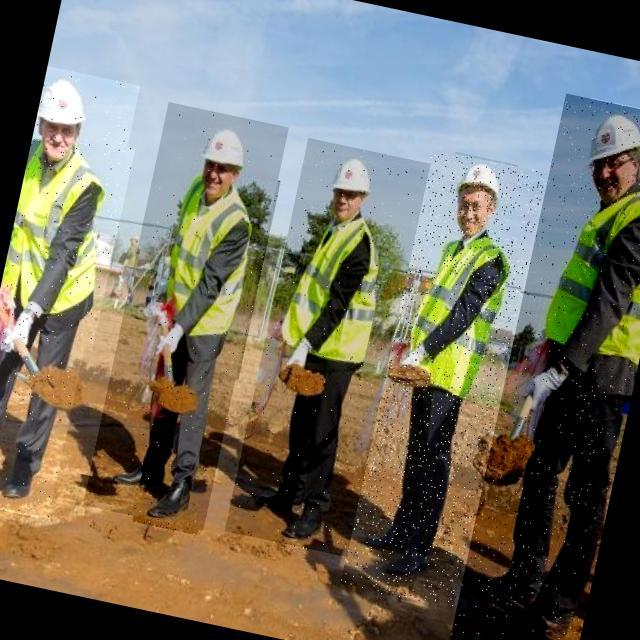Gloves: (516, 361, 583, 402), (389, 336, 443, 382), (0, 304, 45, 358), (156, 315, 193, 373), (281, 332, 319, 378), (143, 296, 165, 316)
Helmet: (573, 97, 640, 191), (442, 152, 518, 229), (33, 67, 102, 145), (316, 146, 391, 216), (187, 114, 261, 183)
Person: (464, 59, 638, 640), (360, 139, 528, 607), (118, 93, 269, 541), (250, 124, 405, 559), (0, 48, 112, 544)
Safety Boot: (137, 451, 212, 522), (370, 526, 444, 595), (493, 585, 590, 637), (474, 558, 553, 620), (0, 435, 53, 517), (250, 472, 323, 523), (107, 462, 180, 508), (276, 490, 337, 544), (355, 511, 418, 560)
Safety Vest: (0, 143, 104, 350), (404, 232, 513, 400), (538, 194, 640, 365), (160, 177, 254, 360), (282, 218, 393, 370)
